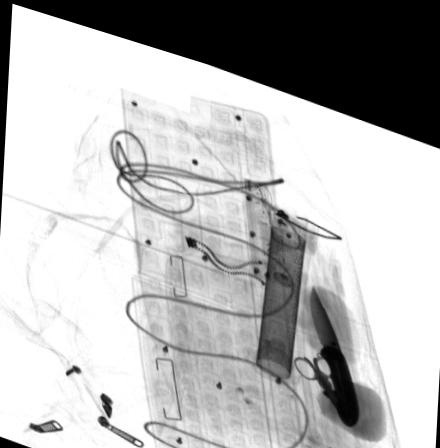Knife: (309, 264, 360, 405)
Scissors: (293, 334, 342, 396)
